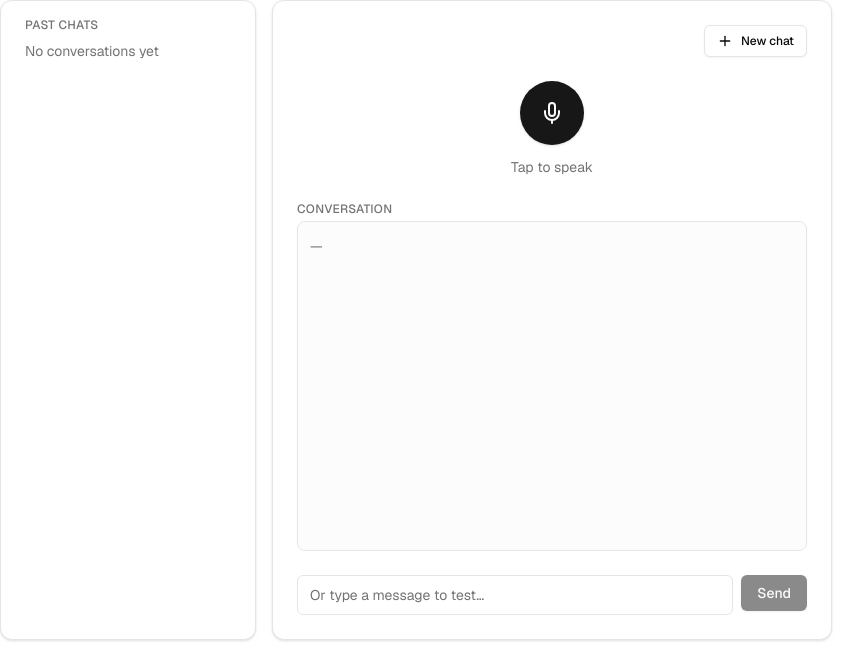
Scenario: mic start/stop › starts recognition when idle and stops it while listening
The width and height of the screenshot is (849, 658).
Check: the text "Tap to speak" is shown, box [511, 157, 593, 177]
Click the button named "start listening" at x=552, y=113, box [520, 81, 584, 145]
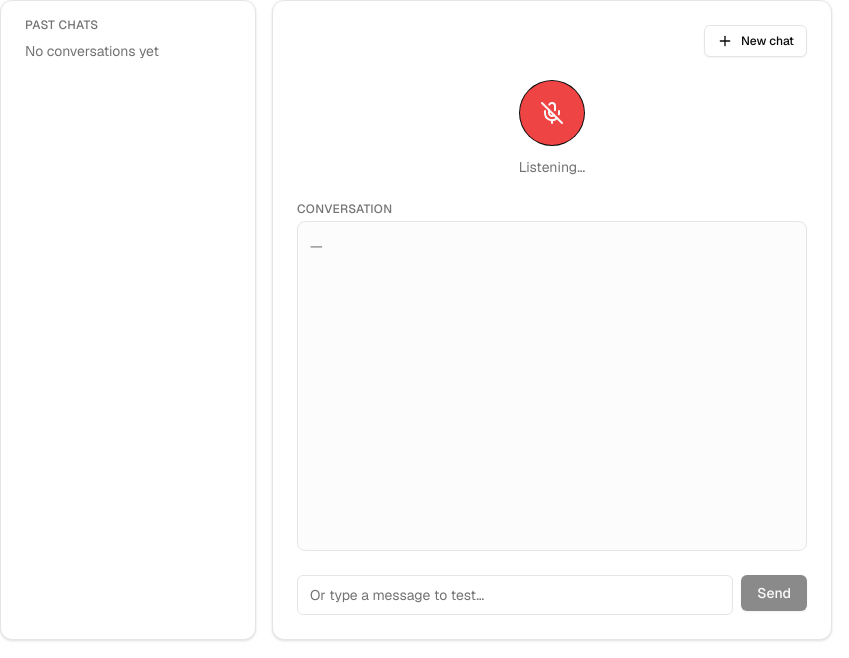
Check: the text "Listening…" is shown, box [519, 157, 585, 177]
Click the button named "stop listening" at x=552, y=113, box [520, 81, 584, 145]
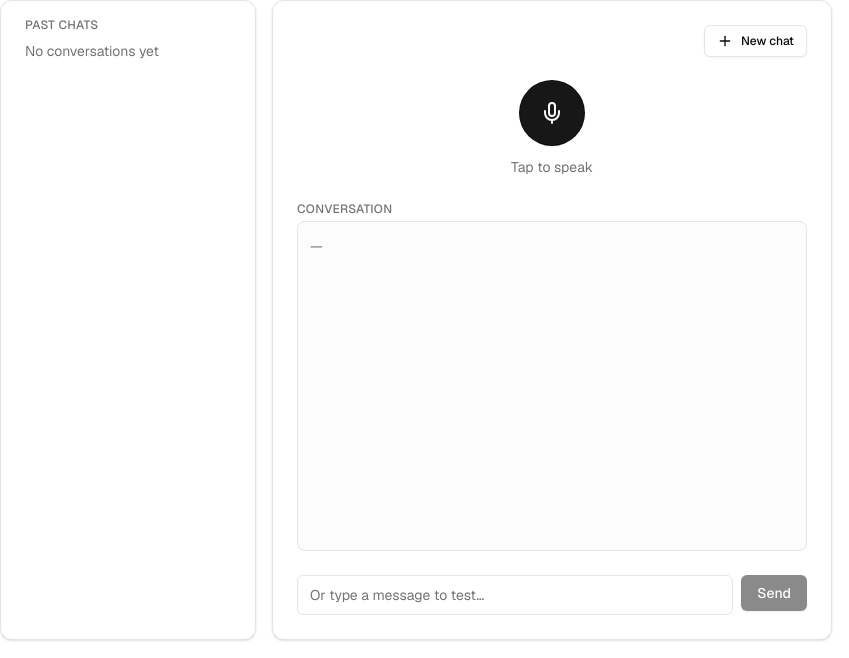
Check: the text "Tap to speak" is shown, box [511, 157, 593, 177]
